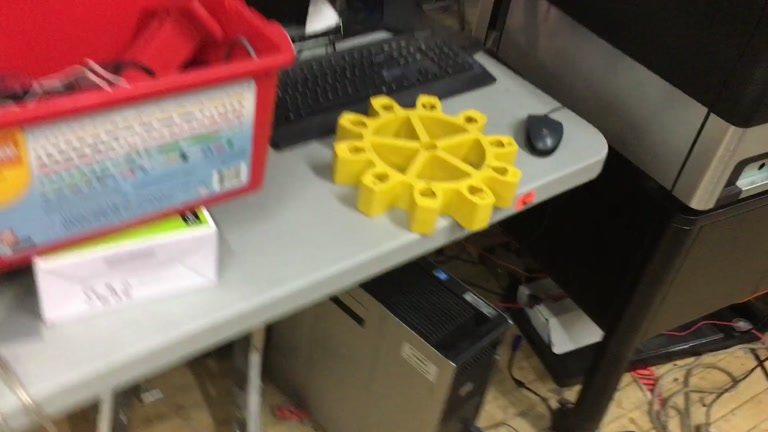gear: (334, 93, 521, 237)
